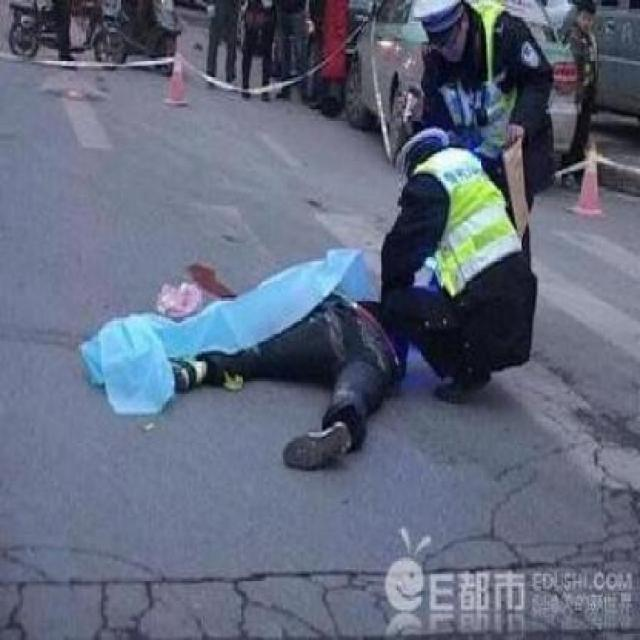fall: (147, 248, 424, 470)
